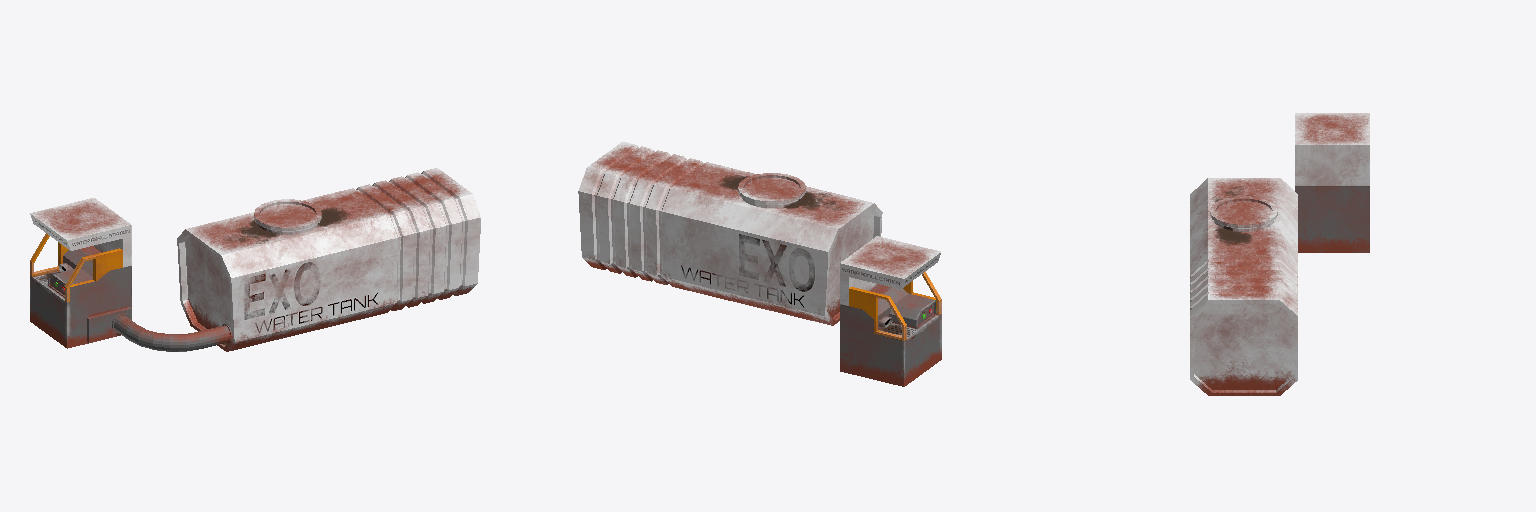
3 views of the same model, side by side, from view 1: azimuth 30°, elevation 25°; view 2: azimuth 150°, elevation 25°; view 3: azimuth 270°, elevation 25° (orthographic).
Visible parts, largest first — view 1: WaterRefill; view 2: WaterRefill; view 3: WaterRefill.
Boxes of the visible parts, x1,y1,x2,y2 form: WaterRefill: [30, 168, 480, 351]; WaterRefill: [578, 142, 941, 386]; WaterRefill: [1190, 113, 1369, 395].
Size of the model in its own units: 7.74 by 2.2 by 3.32.
Materials: 1 (1 with a texture image).